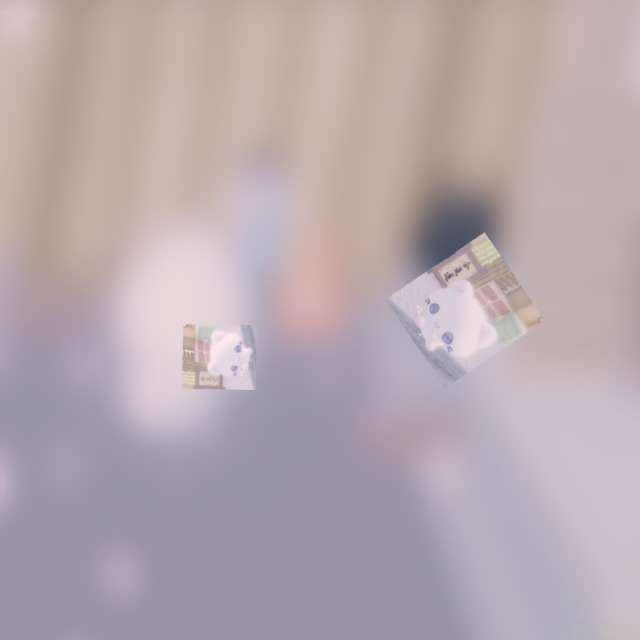urso_branco: (385, 232, 545, 388), (182, 324, 257, 390)
